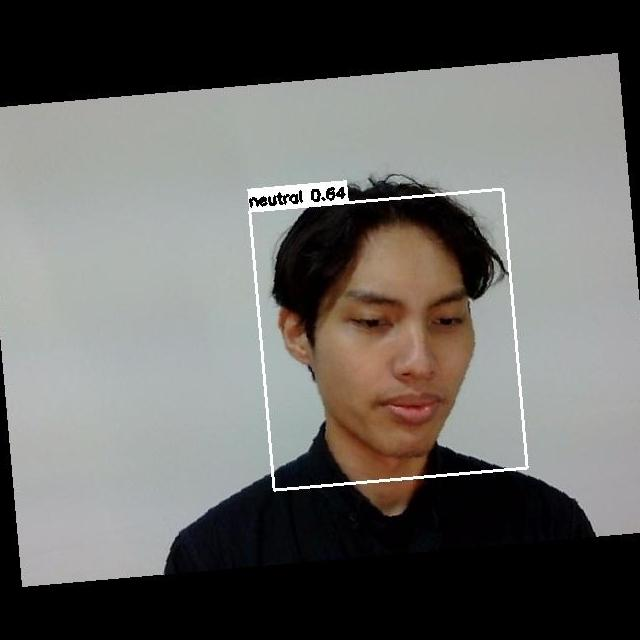Fear: (298, 255, 498, 450)
